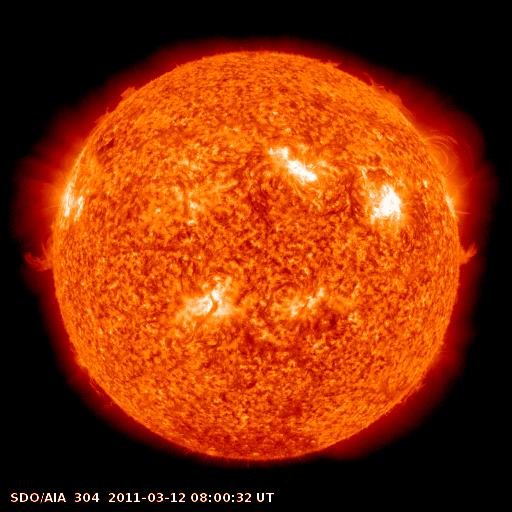prominence: (315, 49, 423, 122), (82, 74, 157, 144), (415, 121, 481, 193), (18, 220, 69, 283), (81, 365, 123, 419), (444, 234, 493, 280), (394, 369, 429, 411)
